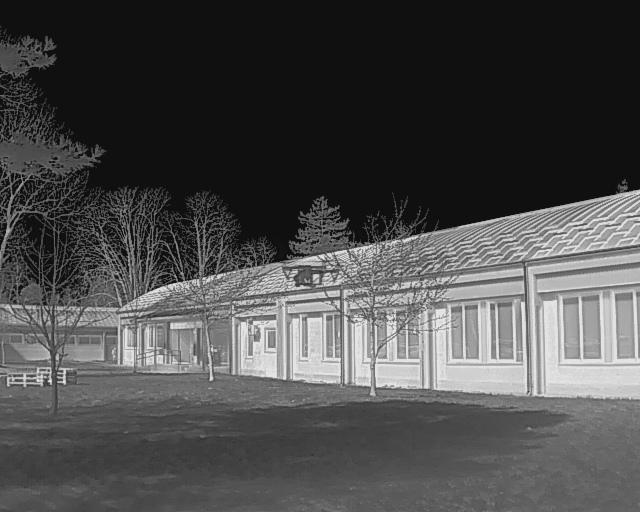drone: (262, 250, 338, 298)
